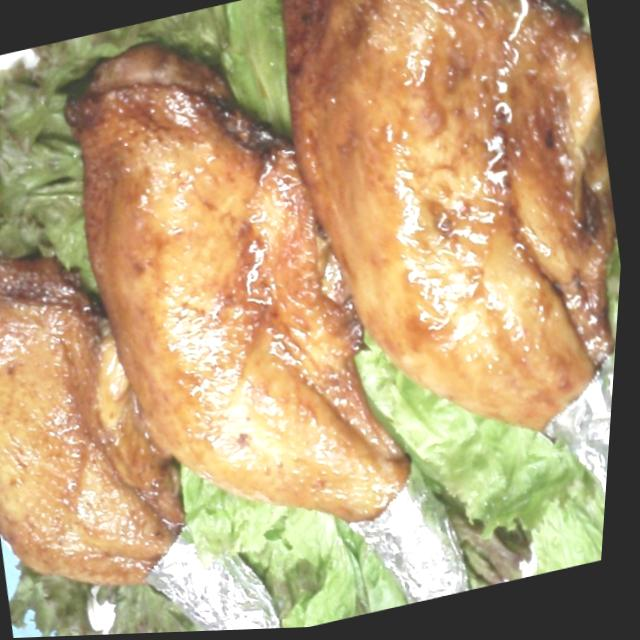鸡肉料理 含炸鸡: (235, 0, 640, 624)
